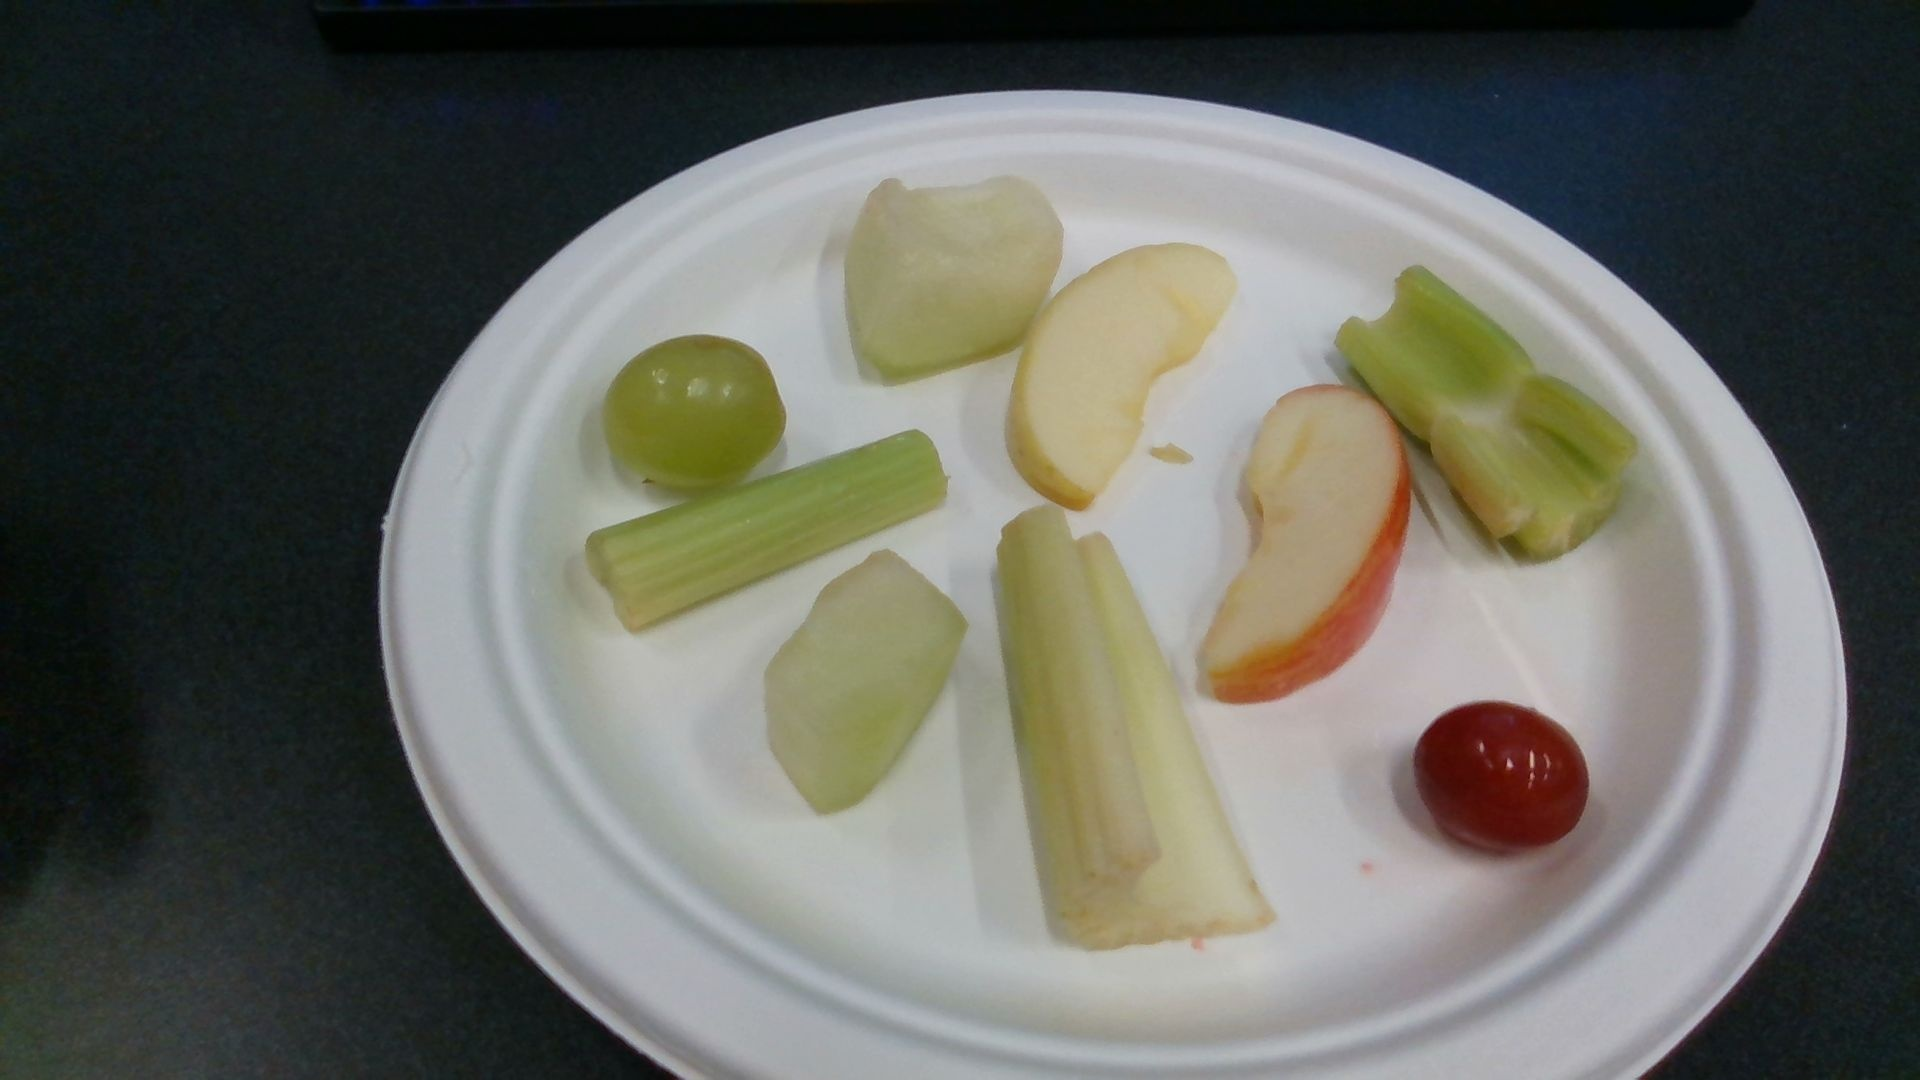apple: (1209, 388, 1407, 705), (1007, 243, 1232, 510)
cantalope: (764, 551, 964, 816), (847, 179, 1064, 368)
celery: (996, 510, 1270, 948), (1337, 266, 1639, 558), (584, 433, 949, 630)
grape_green: (604, 336, 789, 487)
grape_purple: (1415, 703, 1589, 851)
